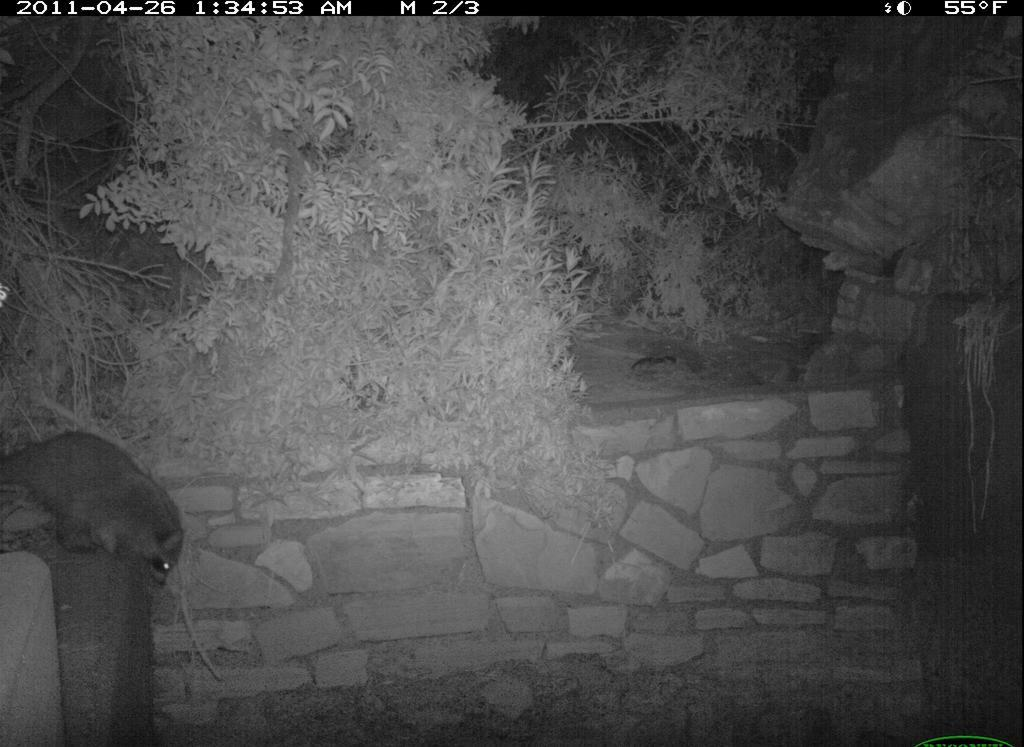raccoon: (4, 408, 208, 612)
